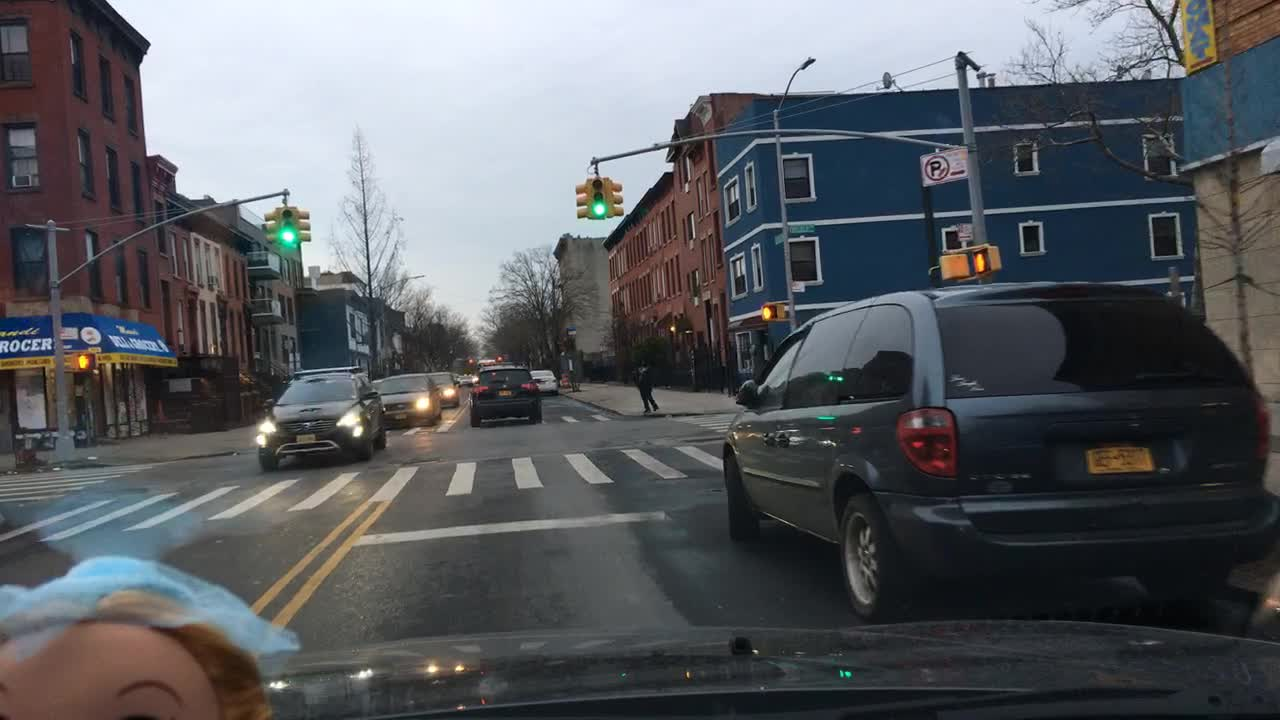bus: (473, 356, 493, 366)
car: (714, 286, 1275, 625), (251, 365, 386, 466), (467, 362, 543, 426), (381, 371, 438, 426), (426, 368, 460, 406), (530, 368, 559, 396), (458, 374, 475, 388), (368, 377, 381, 394), (450, 370, 458, 385)
person: (633, 358, 661, 415)
traffic light: (278, 204, 297, 248), (971, 245, 997, 276), (589, 178, 606, 221), (939, 254, 969, 277), (294, 207, 311, 245), (573, 179, 589, 218), (260, 207, 274, 245), (609, 179, 622, 218), (70, 350, 94, 371), (761, 307, 776, 320), (466, 353, 472, 365), (495, 350, 500, 362)
traffic sign: (915, 145, 970, 185)
